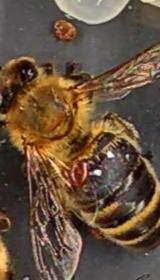varroa_mite: (62, 150, 91, 190)
